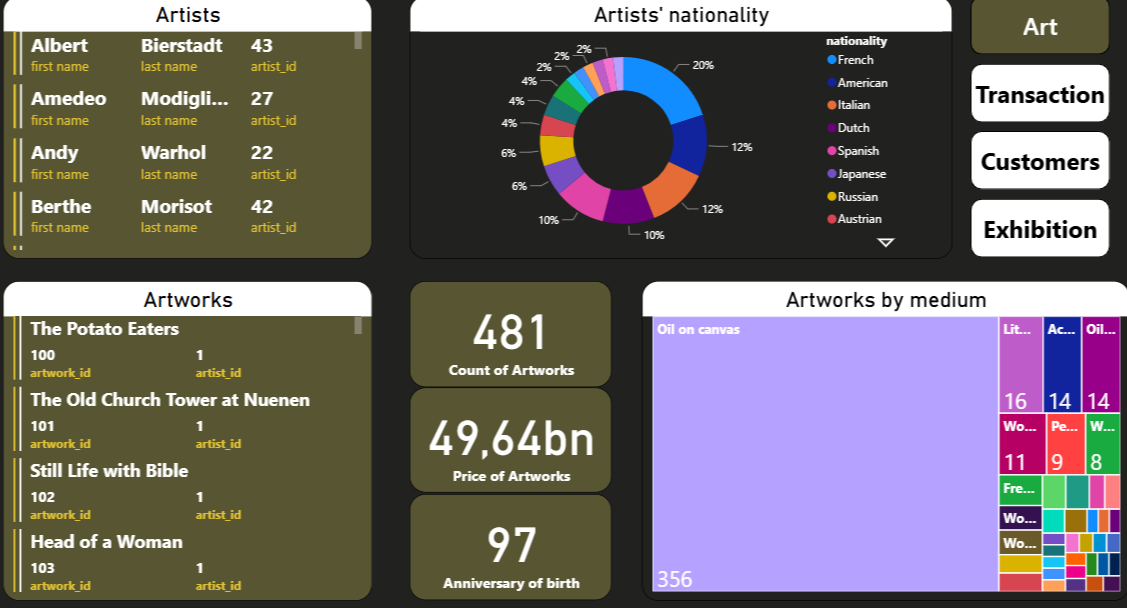

The page's visual inventory and layout, read from the dashboard file:
{"tool":"powerbi","page":{"name":"Art","canvas":[1280,720],"ordinal":0},"visuals":[{"type":"multiRowCard","title":"Artists","fields":{"Values":["public artists.first_name","public artists.last_name","public artworks.artist_id"]},"box":[28.3,26.7,410,291.7],"z":0},{"type":"multiRowCard","title":"Artworks","fields":{"Values":["public artworks.artwork_id","public artworks.artist_id","public artworks.title"]},"box":[28.3,343.3,410,355],"z":1000},{"type":"treemap","title":"Artworks by medium","fields":{"Details":["public artworks.medium"],"Values":["CountNonNull(public artworks.artwork_id)"]},"box":[738.3,343.3,541.7,355],"z":2000},{"type":"card","fields":{"Values":["CountNonNull(public artworks.artwork_id)"]},"box":[480.5,343,224.9,118.1],"z":3000},{"type":"pageNavigator","box":[1103.3,26.7,155,291.7],"z":4000},{"type":"donutChart","title":"Artists'' nationality","fields":{"Y":["CountNonNull(public artists.artist_id)"],"Category":["public artists.nationality"]},"box":[480,26.7,603.3,291.7],"z":5000},{"type":"card","fields":{"Values":["Sum(public artworks.price)"]},"box":[480.5,461.1,224.9,116.5],"z":6000},{"type":"card","fields":{"Values":["public artists.Anniversary"]},"box":[480.5,579.2,224.9,118.1],"z":8000}]}

Visuals, with their boxes on the page's 1280x720 design canvas (x1, y1, x2, y2). These are canvas units, not pixel positions in the 1127x608 screenshot, which may show the page scaled, cropped or inside an application window:
"Artists" multiRowCard: 28,27,438,318
"Artworks" multiRowCard: 28,343,438,698
"Artworks by medium" treemap: 738,343,1280,698
card - CountNonNull(public artworks.artwork_id): 480,343,705,461
pageNavigator: 1103,27,1258,318
"Artists'' nationality" donutChart: 480,27,1083,318
card - Sum(public artworks.price): 480,461,705,578
card - public artists.Anniversary: 480,579,705,697
